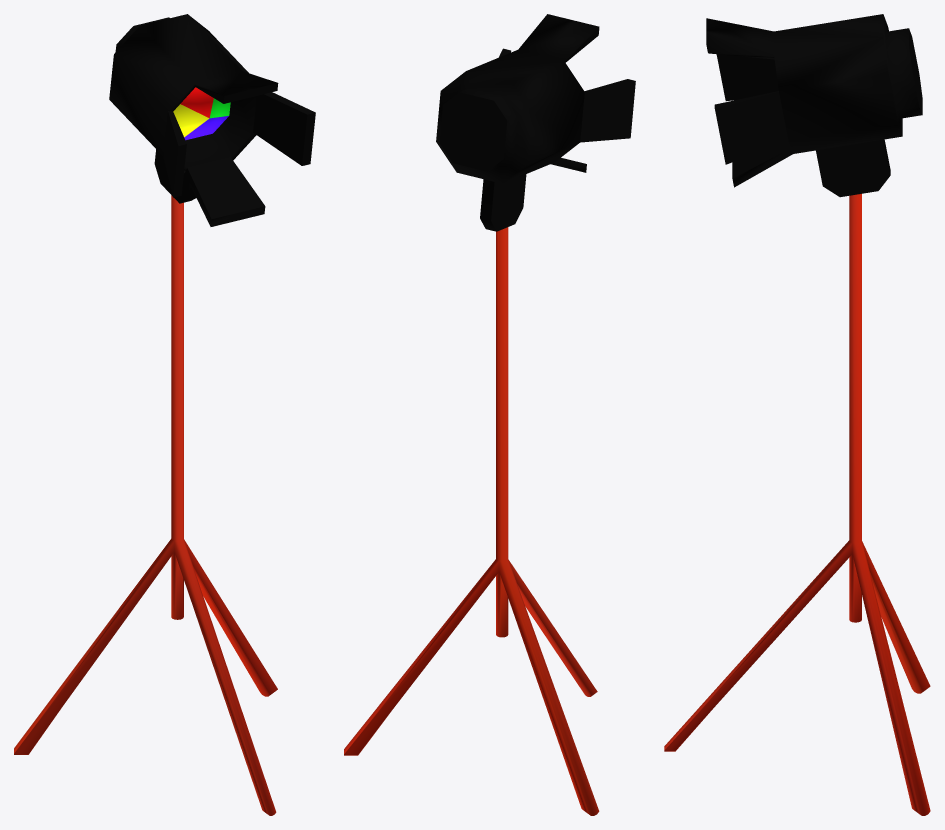
File: LightingStandColored.glb
The picture shows the model from 3 angles, left to right: view 1: azimuth 30°, elevation 25°; view 2: azimuth 150°, elevation 25°; view 3: azimuth 270°, elevation 25°; orthographic projection. The views are drawn at different scales.
Visible parts, largest first — view 1: LightingStandColored; view 2: LightingStandColored; view 3: LightingStandColored.
Part boxes in pixels (x1,y1,x2,y2): LightingStandColored: [14, 14, 315, 815]; LightingStandColored: [344, 14, 635, 815]; LightingStandColored: [664, 14, 930, 815].
Bounding box in the file's own units: 1.31 × 3.41 × 1.13.
Materials: 2 (2 with a texture image).
